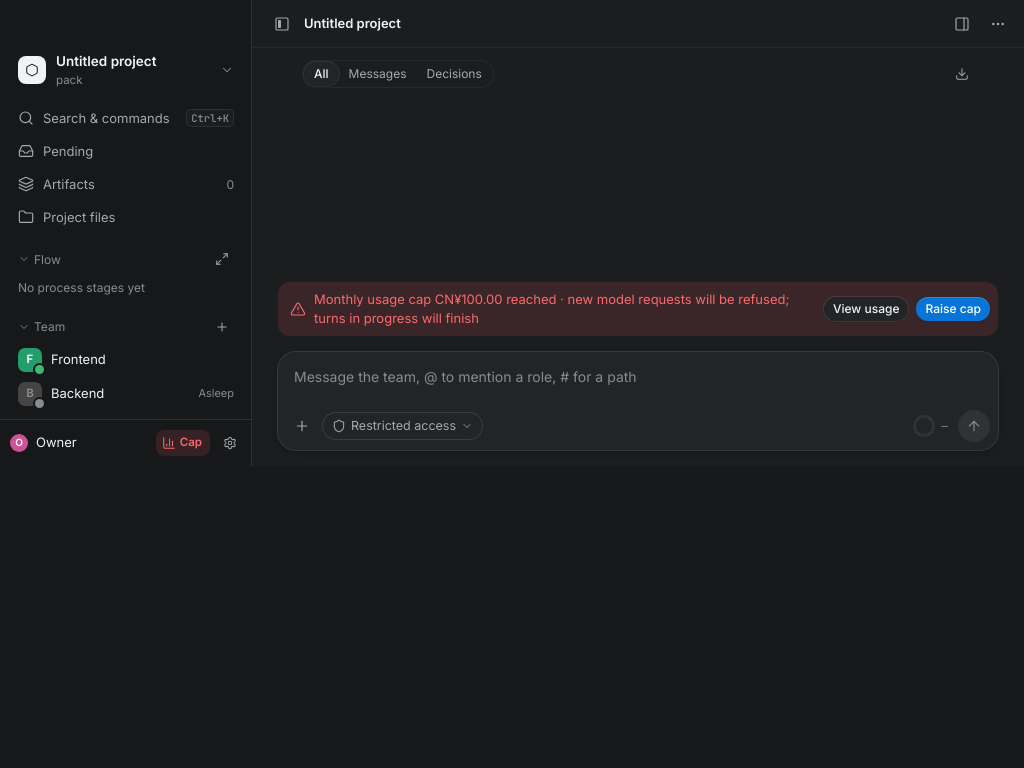
Test: 用量入口 → 用量卡（D20，usage#quick） › 触顶版：红头 + 「提高上限」打开设置的用量分区
The image size is (1024, 768).
Click the button "Cap": (183, 443) 156,430 -> 210,456
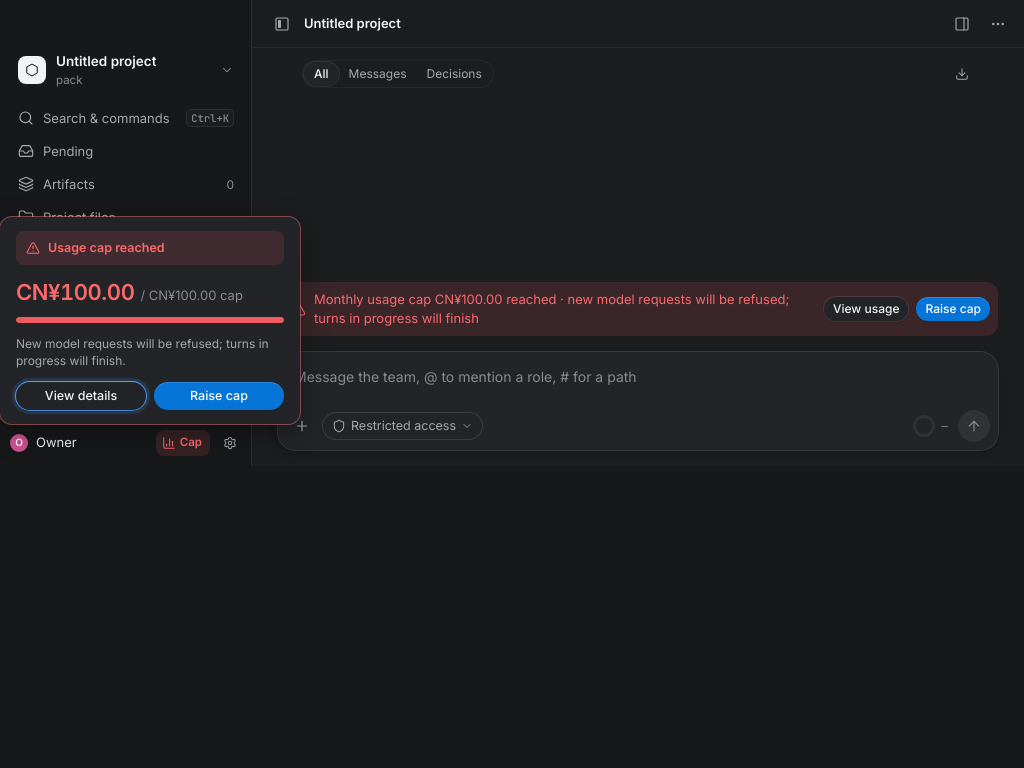
Expected: the element that starts with "Usage cap reached" is shown, 48,240 -> 165,255
Click the button "Raise cap" below "/ CN¥100.00 cap": (219, 396) 154,382 -> 284,410
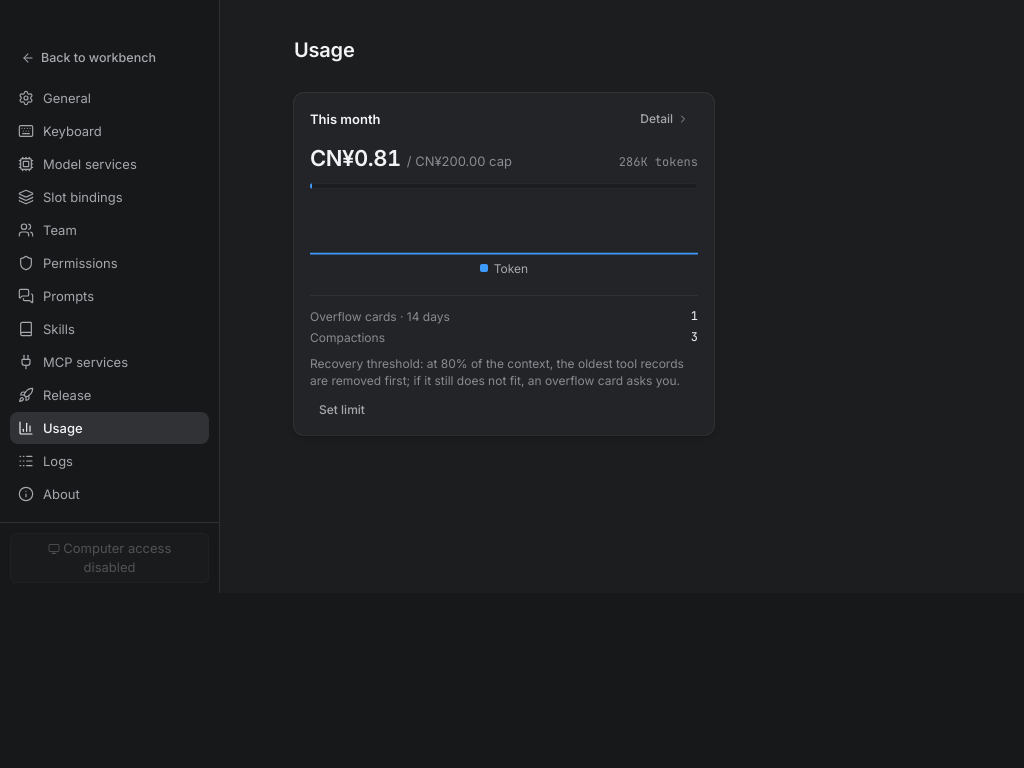
Expected: the element that starts with "This month" is shown, 294,93 -> 714,436
